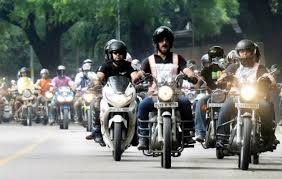helmet: (225, 40, 269, 73), (143, 26, 183, 54), (95, 33, 130, 65)
